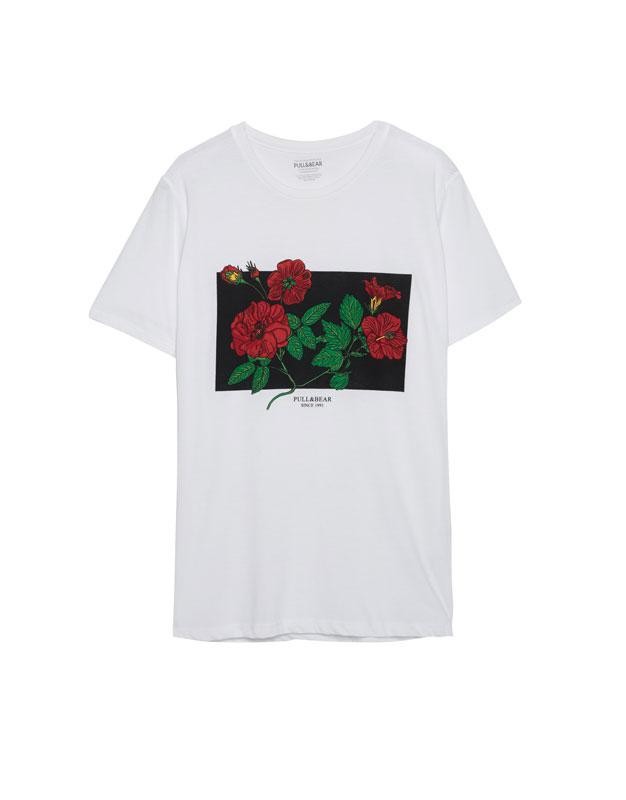teeshirt: (72, 105, 561, 655)
